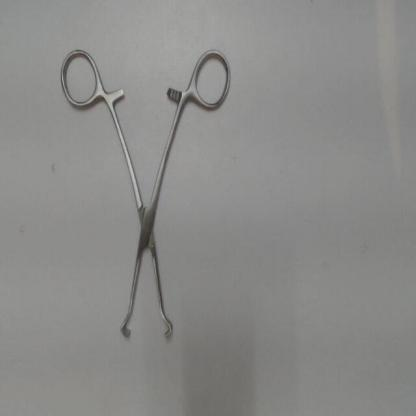Babcock Tissue Forceps: (55, 46, 235, 346)
